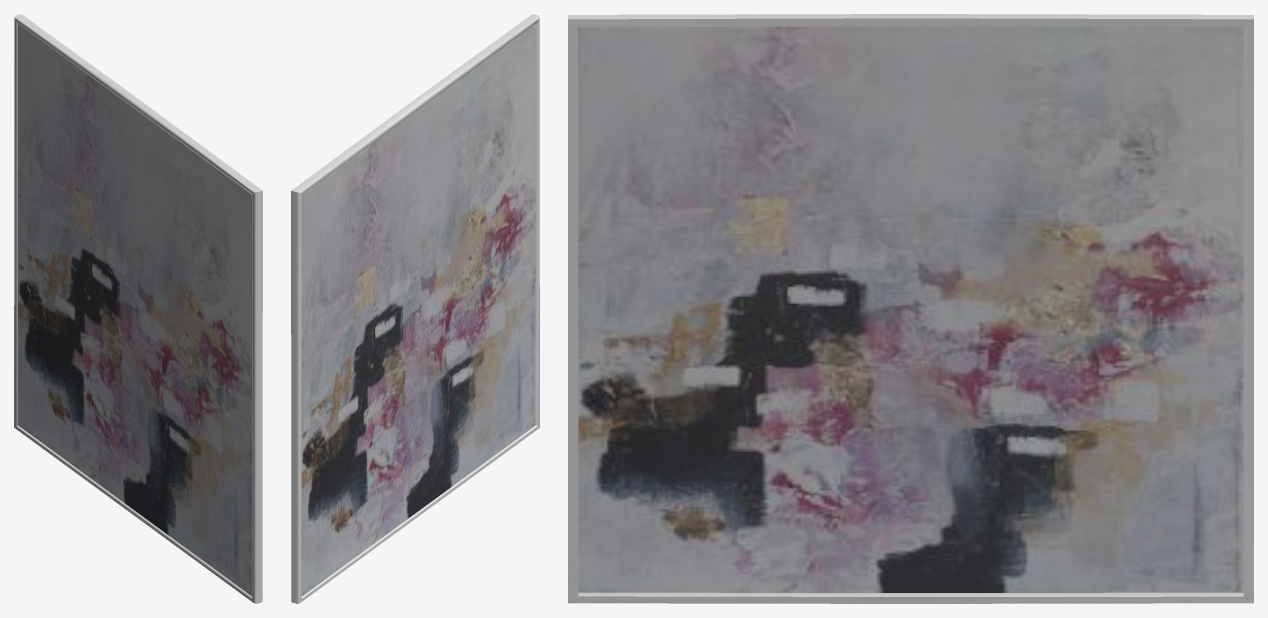
File: WallPainting0014.obj
The picture shows the model from 3 angles, left to right: view 1: azimuth 30°, elevation 25°; view 2: azimuth 150°, elevation 25°; view 3: azimuth 270°, elevation 25°; orthographic projection. The views are drawn at different scales.
Bounding box in the file's own units: 0.035 × 1.66 × 1.76.
Materials: 1 (1 with a texture image).
